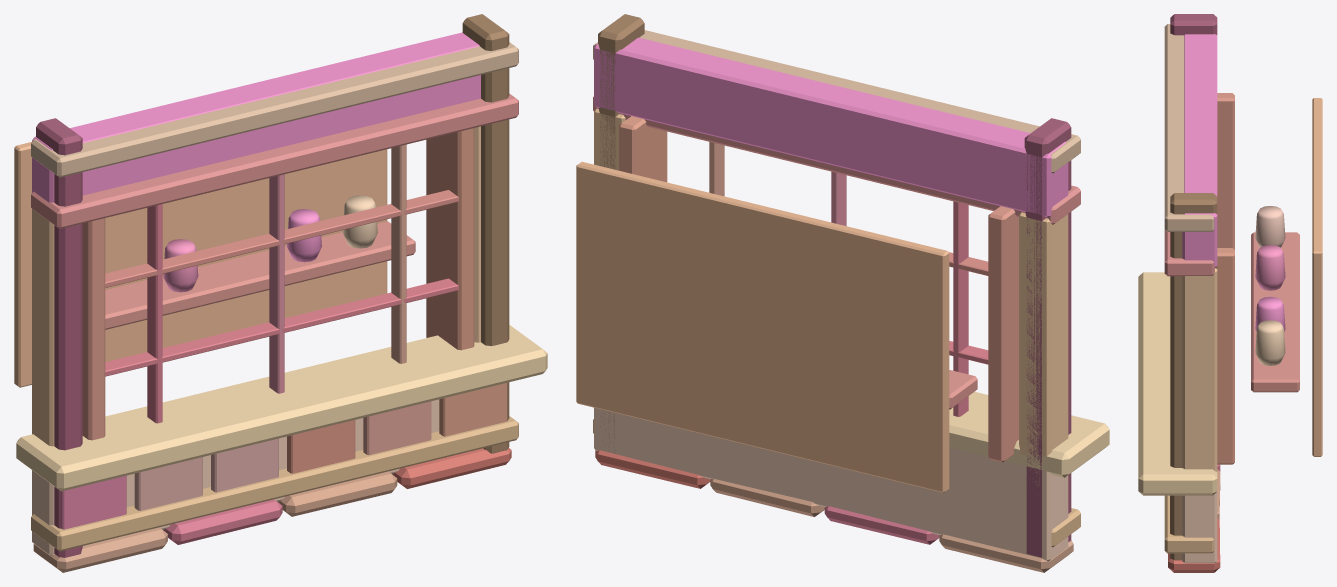
Rendered from WC_RIVER_Wall_Window_A.glb.
The picture shows the model from 3 angles, left to right: view 1: azimuth 30°, elevation 25°; view 2: azimuth 150°, elevation 25°; view 3: azimuth 270°, elevation 25°; orthographic projection. The views are drawn at different scales.
Visible parts, largest first — view 1: WC_RIVER_Wall_Window_A_RenderMesh; view 2: WC_RIVER_Wall_Window_A_RenderMesh; view 3: WC_RIVER_Wall_Window_A_RenderMesh.
Part boxes in pixels (x1,y1,x2,y2): WC_RIVER_Wall_Window_A_RenderMesh: (14, 14, 547, 572); WC_RIVER_Wall_Window_A_RenderMesh: (576, 14, 1109, 572); WC_RIVER_Wall_Window_A_RenderMesh: (1138, 14, 1322, 572).
Bounding box in the file's own units: 2.9 × 2.45 × 1.09.
